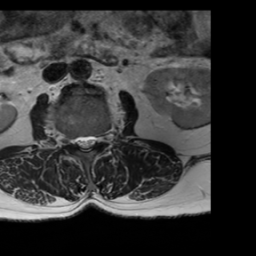CCS_stenosis: (82, 130, 88, 155)
LFS_normal: (96, 128, 104, 148)
LLS_normal: (88, 129, 96, 152)
RFS_stenosis: (66, 129, 74, 150)
RLS_normal: (74, 131, 82, 151)
